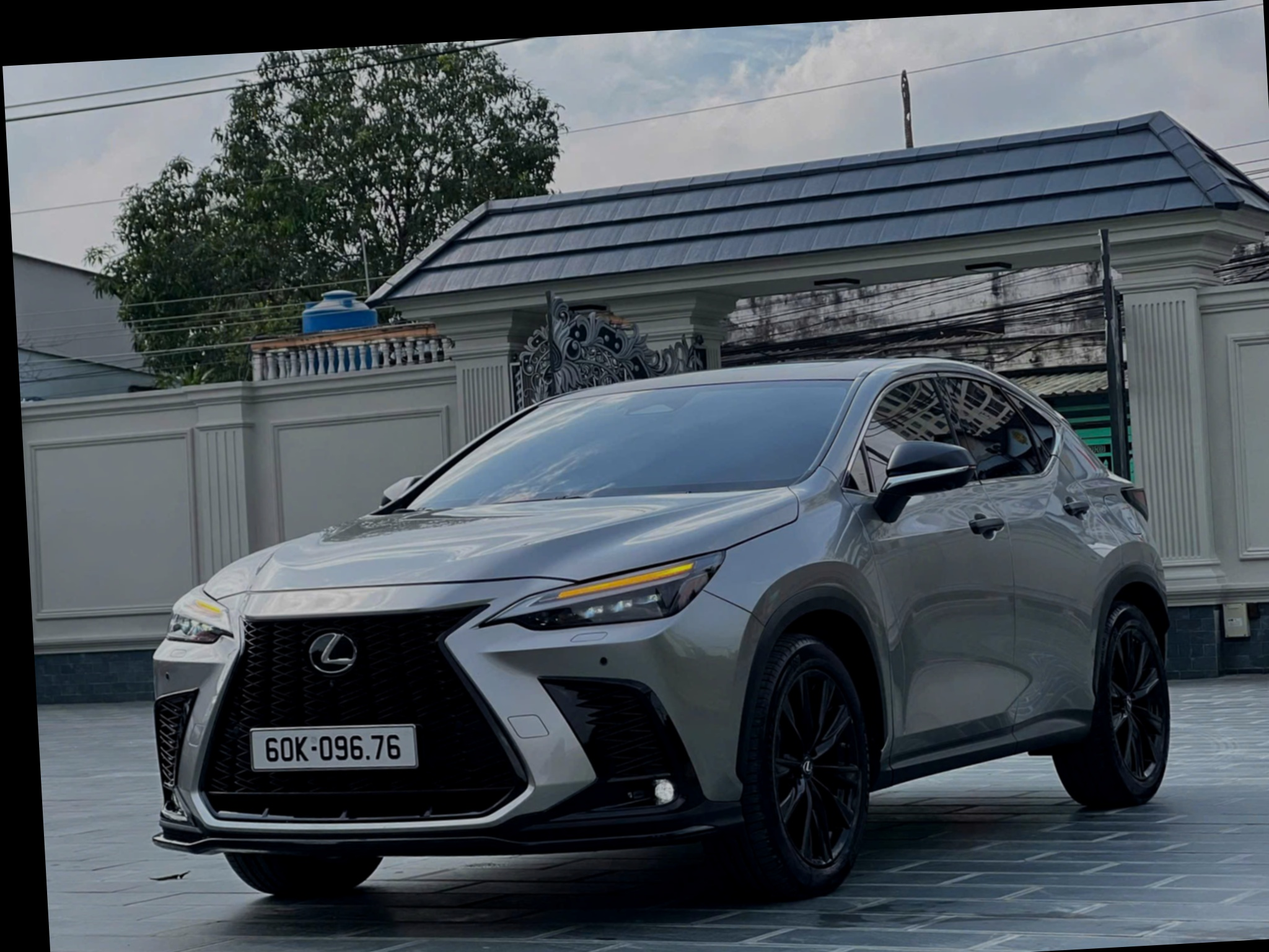Bien-so: (248, 722, 425, 778)
